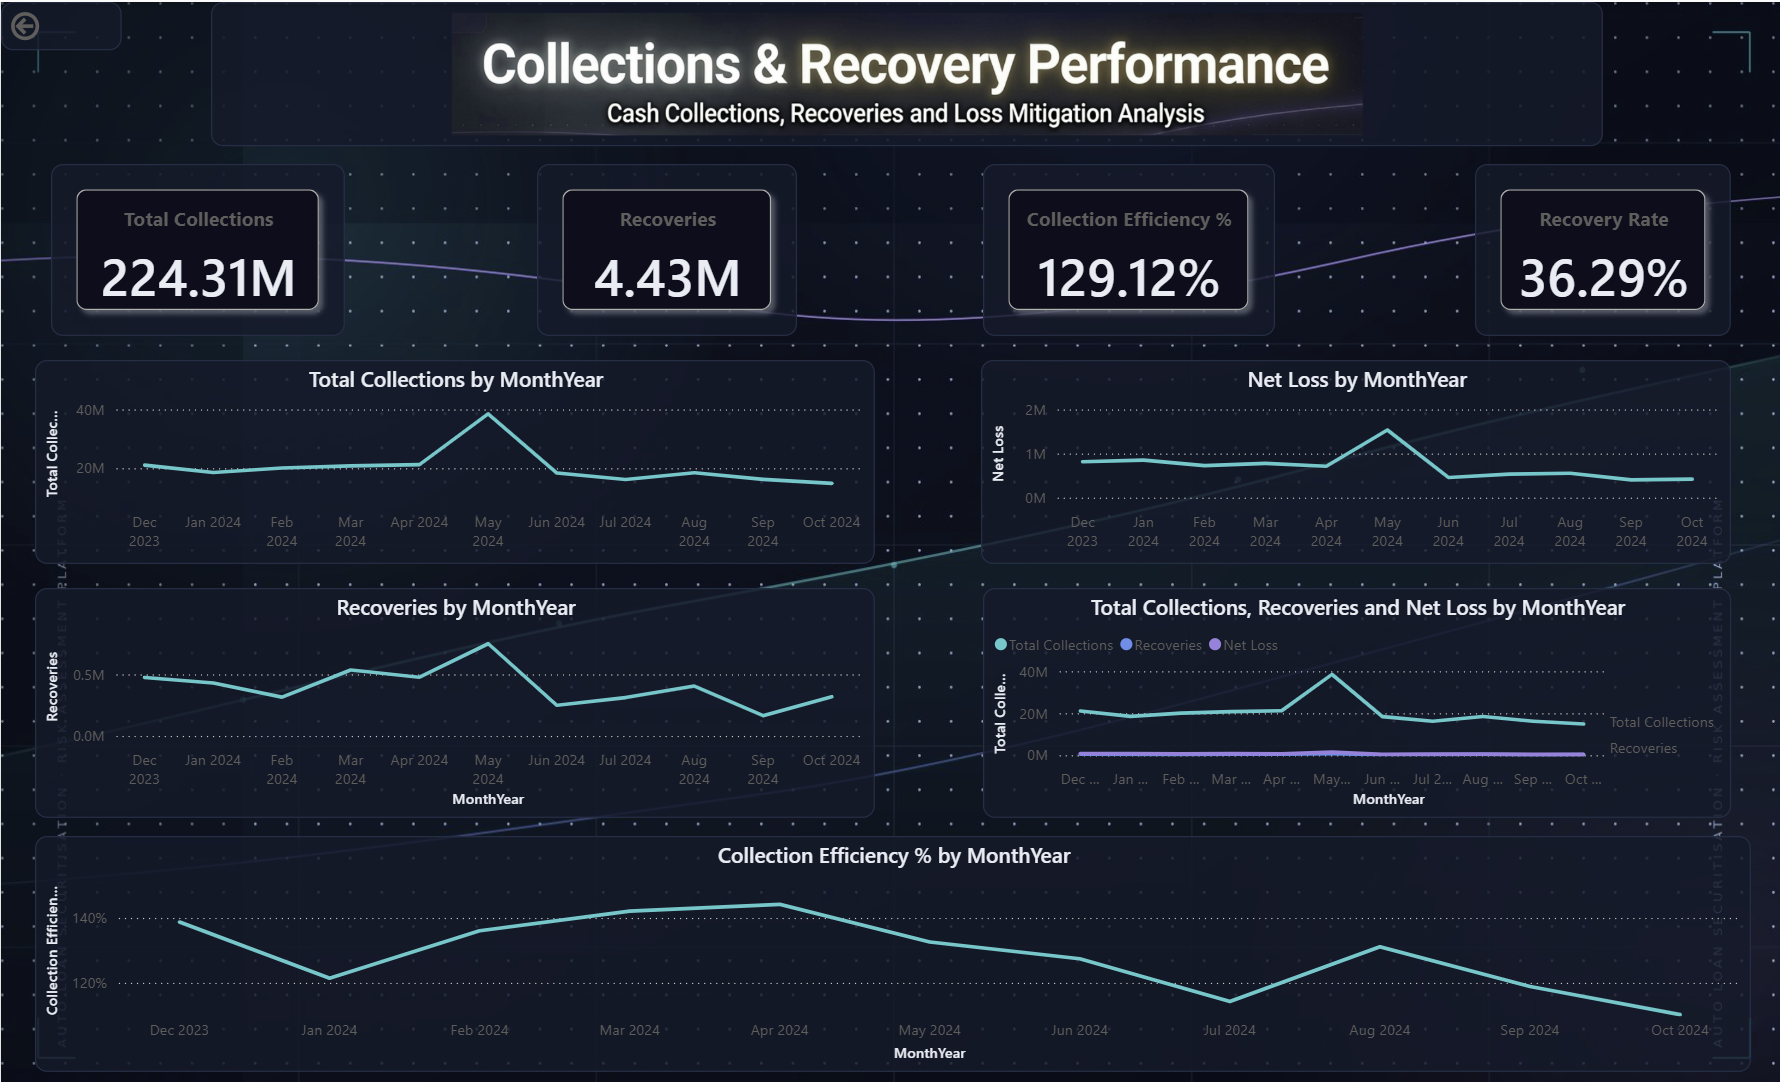

The page's visual inventory and layout, read from the dashboard file:
{"tool":"powerbi","page":{"name":"Page 6","canvas":[1480,900],"ordinal":5},"visuals":[{"type":"cardVisual","fields":{"Data":["DateTable.Total Collections"]},"box":[41.4,134.3,243.6,142.5],"z":0},{"type":"cardVisual","fields":{"Data":["DateTable.Recoveries"]},"box":[444.2,134.3,215.5,142.5],"z":1000},{"type":"cardVisual","fields":{"Data":["DateTable.Collection Efficiency %"]},"box":[813.8,134.3,242,142.5],"z":2000},{"type":"cardVisual","fields":{"Data":["DateTable.Recovery Rate"]},"box":[1221.5,134.3,212.2,142.5],"z":3000},{"type":"lineChart","fields":{"Category":["DateTable.MonthYear"],"Y":["DateTable.Total Collections"]},"box":[28.2,296.7,696.1,169.1],"z":4000},{"type":"lineChart","fields":{"Category":["DateTable.MonthYear"],"Y":["DateTable.Recoveries"]},"box":[28.2,485.6,696.1,190.6],"z":5000},{"type":"lineChart","fields":{"Category":["DateTable.MonthYear"],"Y":["DateTable.Net Loss"]},"box":[812.2,296.7,621.5,169.1],"z":6000},{"type":"lineChart","fields":{"Category":["DateTable.MonthYear"],"Y":["DateTable.Total Collections","DateTable.Recoveries","DateTable.Net Loss"]},"box":[813.8,485.6,619.9,190.6],"z":7000},{"type":"lineChart","fields":{"Category":["DateTable.MonthYear"],"Y":["DateTable.Collection Efficiency %"]},"box":[28.2,691.2,1422.1,195.6],"z":8000},{"type":"image","box":[174,0,1153.6,119.3],"z":9000},{"type":"actionButton","box":[0,0,100,40],"z":10000}]}

Visuals, with their boxes in screenshot pixels (x1, y1, x2, y2), scaled from the page's 1480x900 canvas onto the 1780x1082 screenshot:
cardVisual - DateTable.Total Collections: select_region(50, 161, 343, 333)
cardVisual - DateTable.Recoveries: select_region(534, 161, 793, 333)
cardVisual - DateTable.Collection Efficiency %: select_region(979, 161, 1270, 333)
cardVisual - DateTable.Recovery Rate: select_region(1469, 161, 1724, 333)
lineChart - DateTable.MonthYear x DateTable.Total Collections: select_region(34, 357, 871, 560)
lineChart - DateTable.MonthYear x DateTable.Recoveries: select_region(34, 584, 871, 813)
lineChart - DateTable.MonthYear x DateTable.Net Loss: select_region(977, 357, 1724, 560)
lineChart - DateTable.MonthYear x DateTable.Total Collections: select_region(979, 584, 1724, 813)
lineChart - DateTable.MonthYear x DateTable.Collection Efficiency %: select_region(34, 831, 1744, 1066)
image: select_region(209, 0, 1597, 143)
actionButton: select_region(0, 0, 120, 48)
